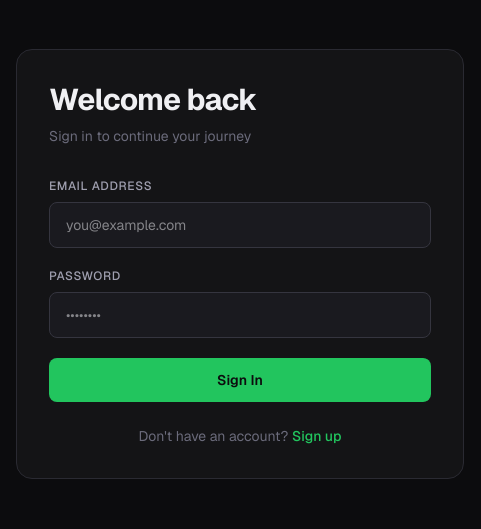
Test: LoginForm › should show exact error message for invalid credentials
This screenshot has width=481, height=529.
In the field with test id "auth-login-email": (240, 225) [49,202,431,248], type "test@example.com"
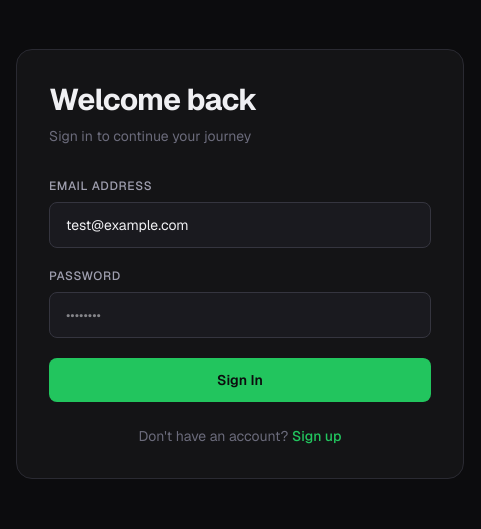
In the password field with test id "auth-login-password": (240, 315) [49,292,431,338], type "wrongpassword"
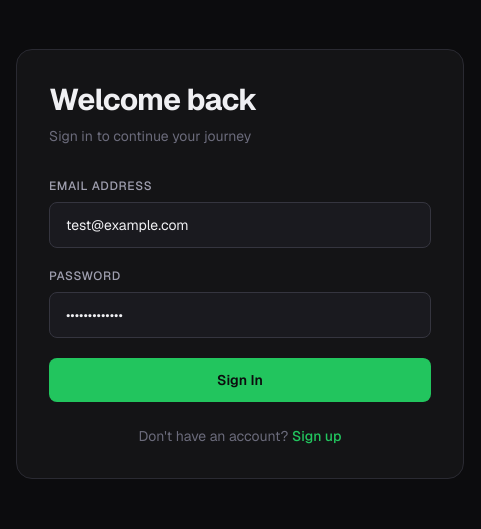
# Submit the form
Click the button with test id "auth-login-submit": (240, 380) [49,358,431,402]
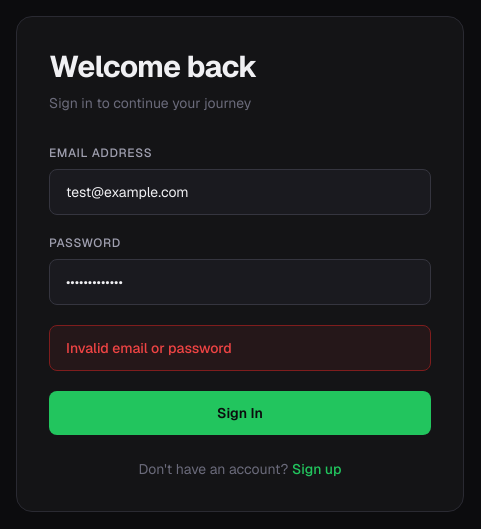
Expected: the text "Invalid email or password" is shown, [49,325,431,371]
